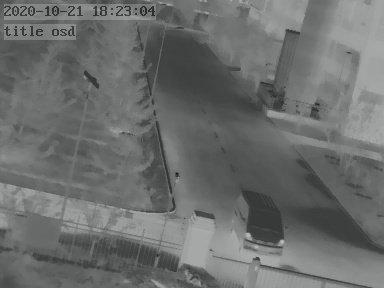vehicle: (231, 190, 287, 263)
